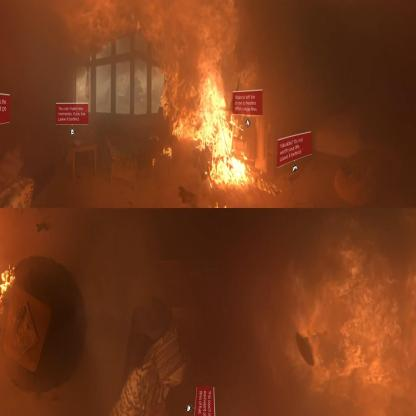fire: (305, 241, 416, 394), (157, 60, 260, 194)
